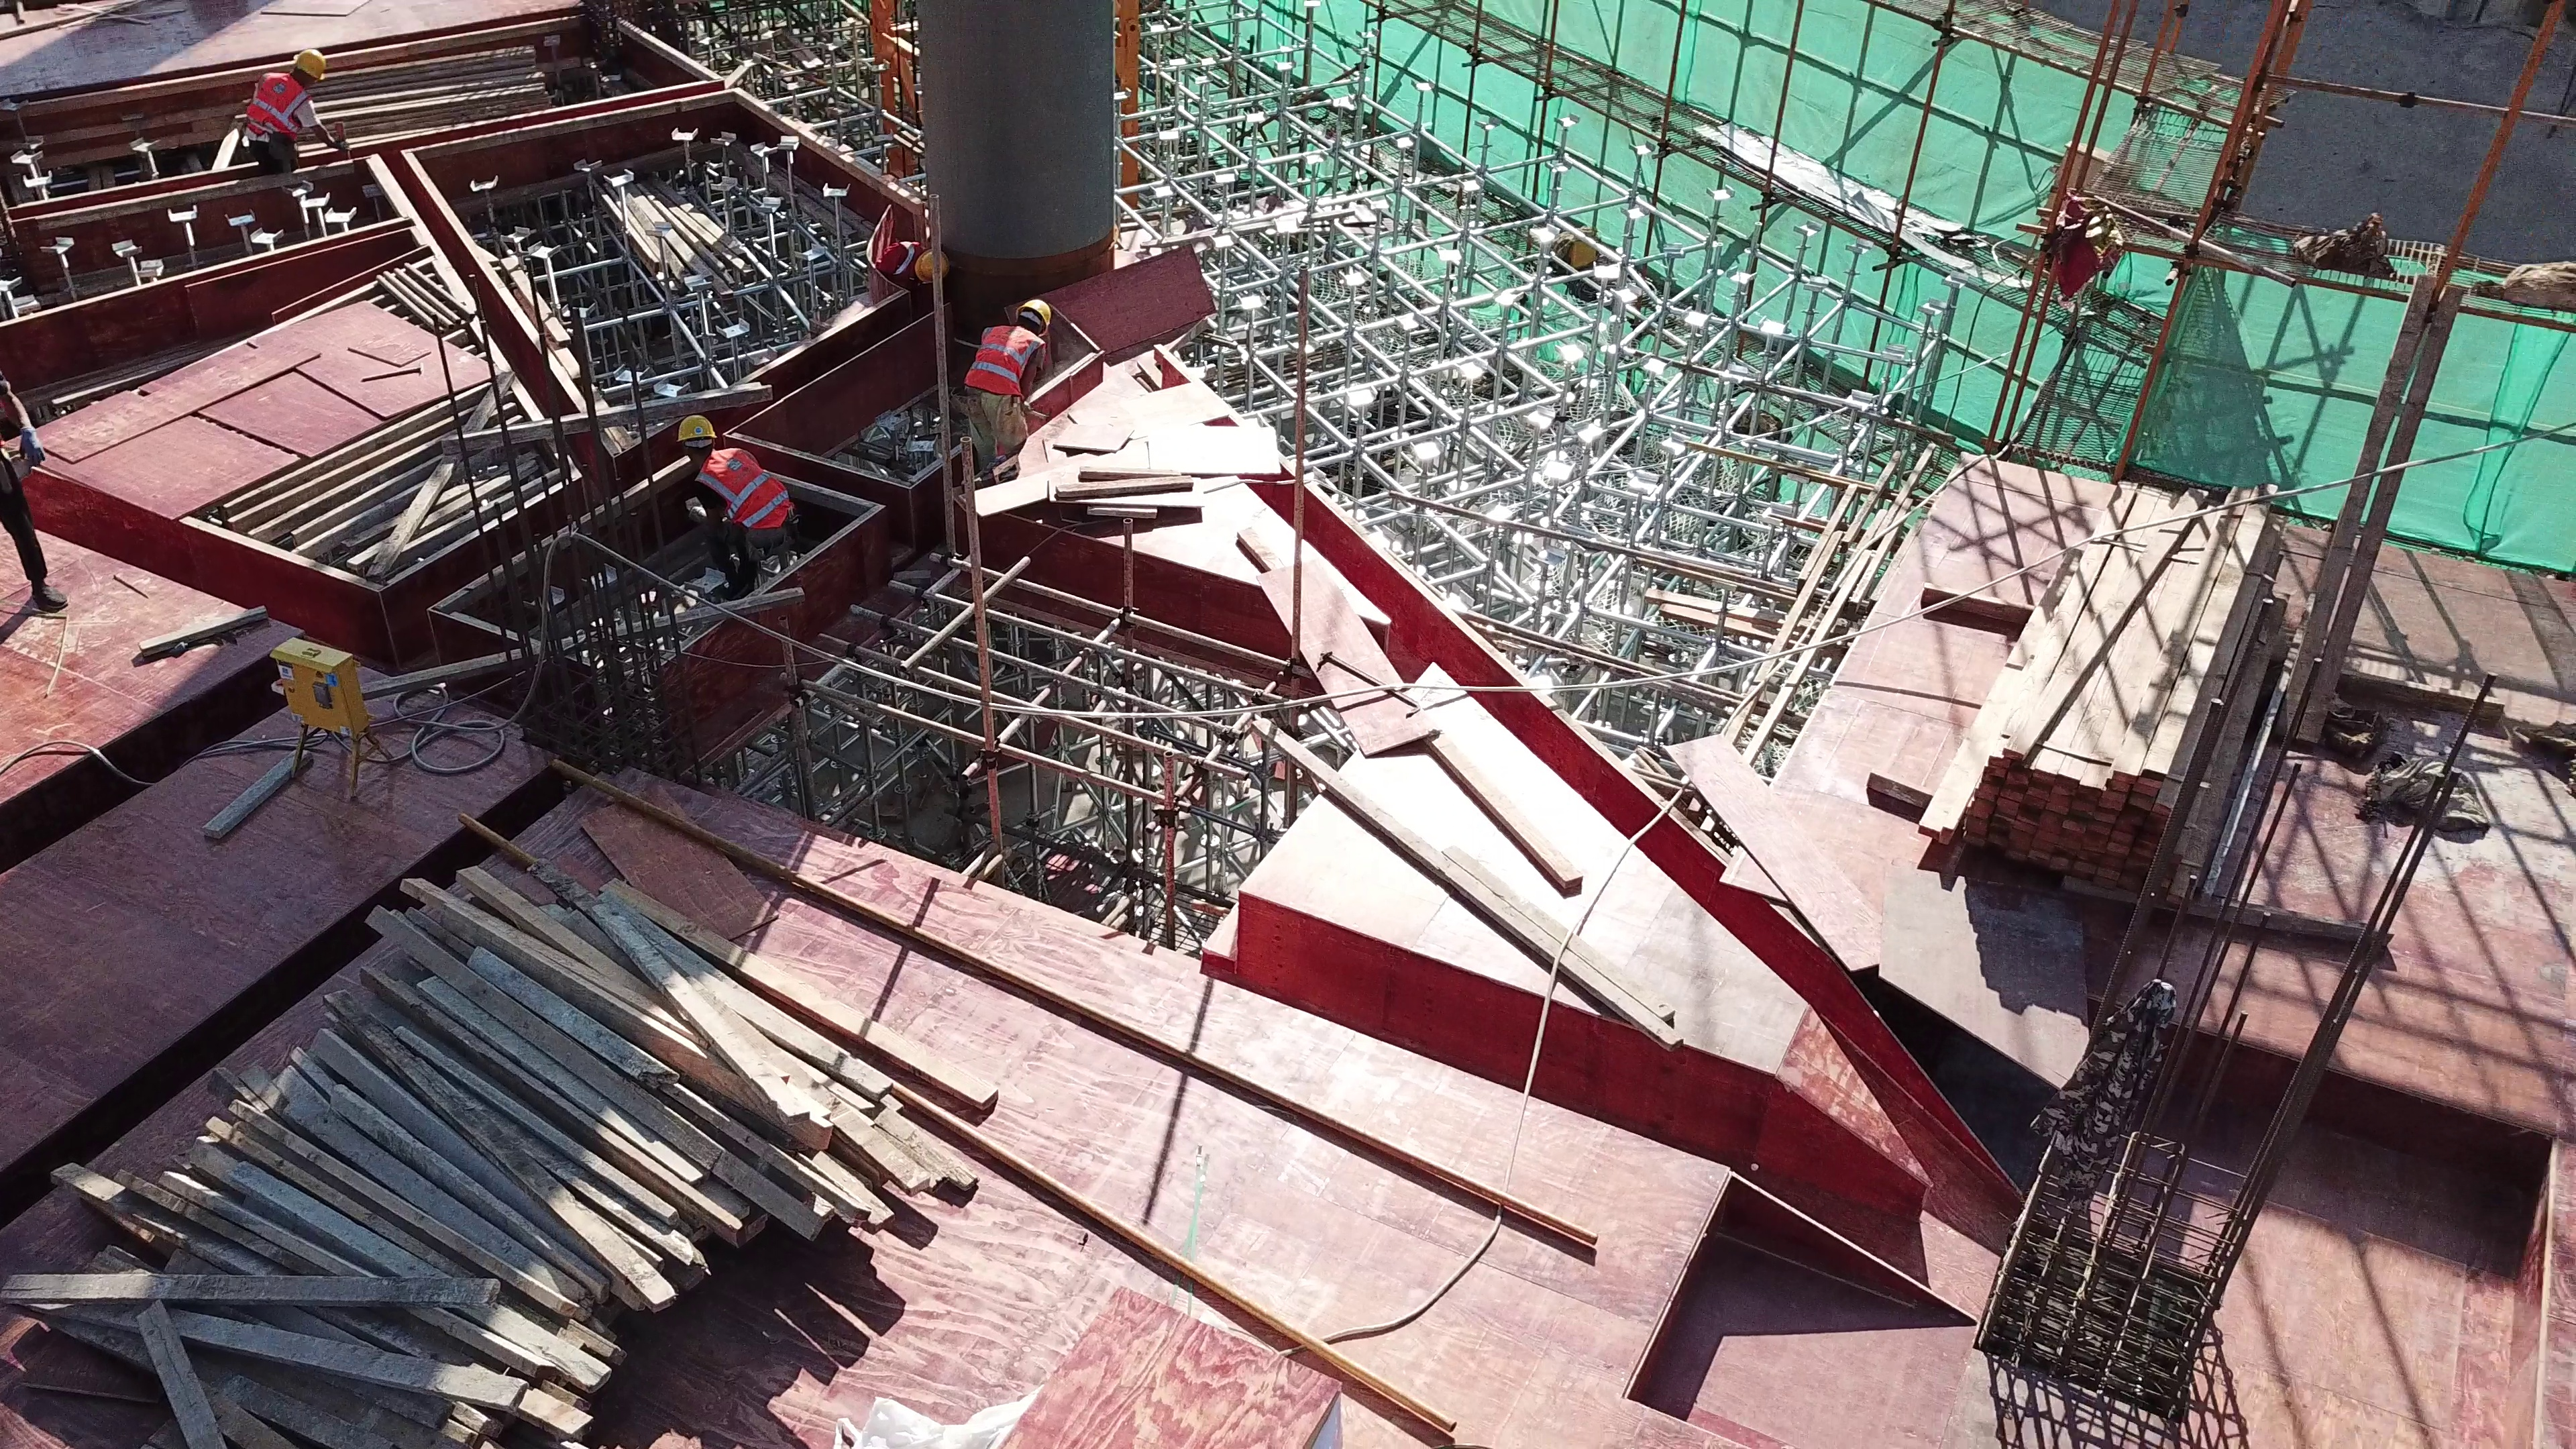helmet: (1013, 297, 1054, 336), (675, 412, 716, 443), (914, 248, 949, 282), (292, 48, 326, 83)
person: (673, 409, 800, 610), (1, 376, 69, 614), (967, 295, 1059, 464), (241, 38, 326, 182), (875, 235, 950, 303)
vest: (694, 446, 796, 531), (968, 325, 1049, 396), (245, 69, 311, 137)
